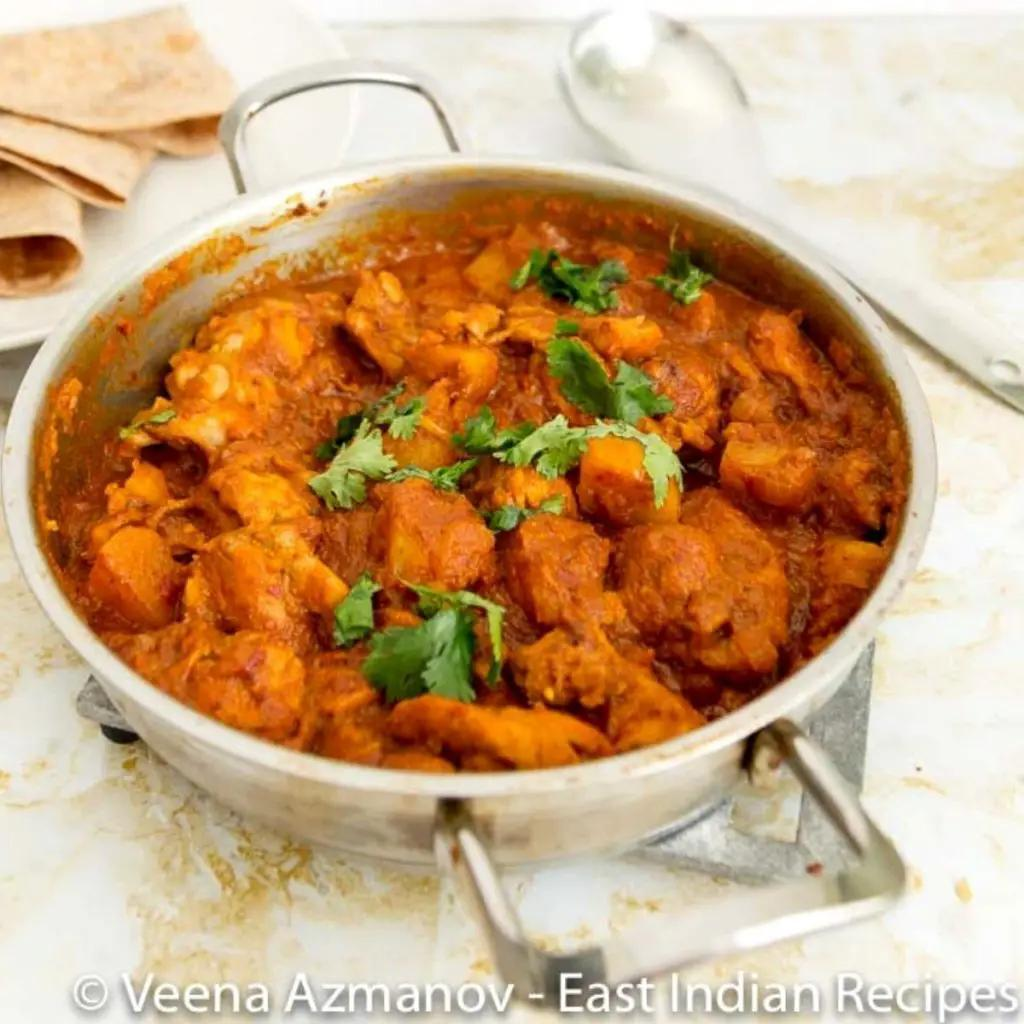chicken: (100, 229, 862, 760)
